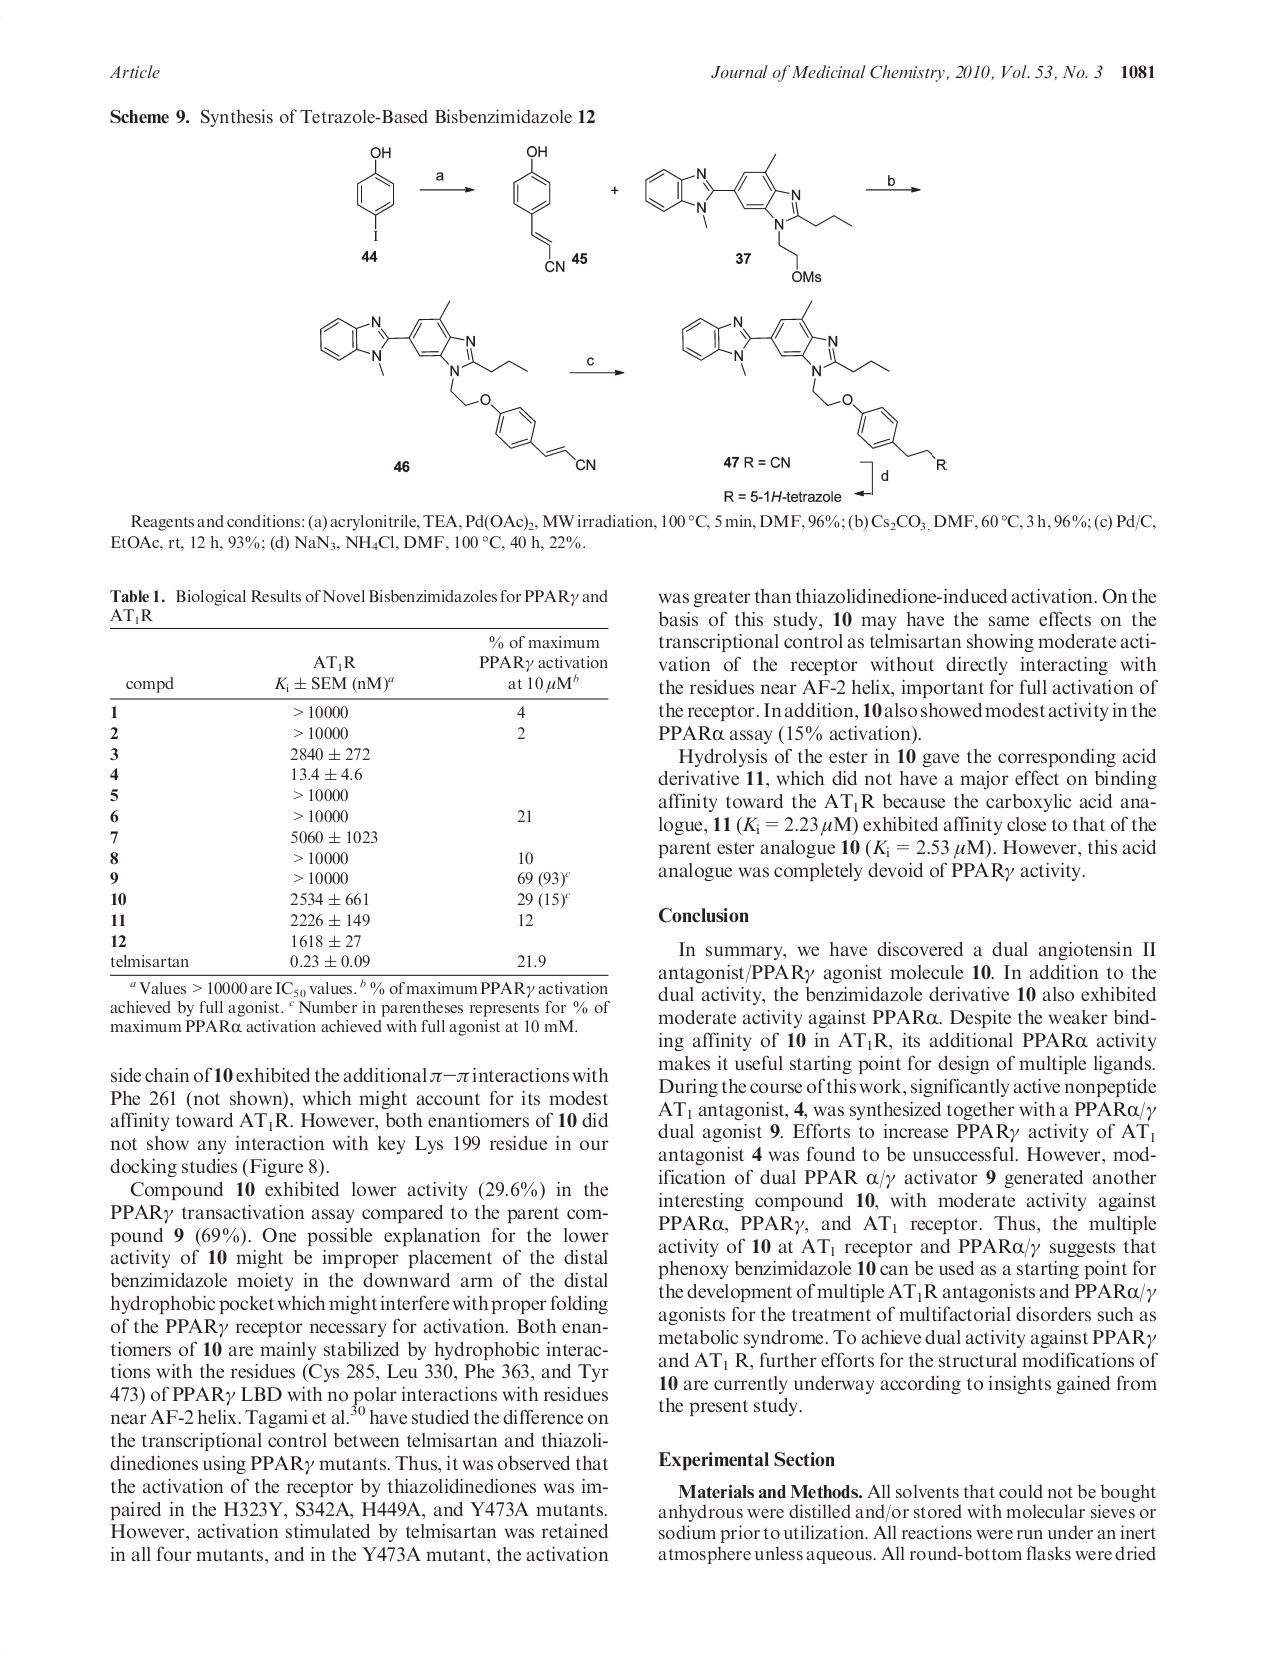exist_molecular: (316, 298, 598, 473), (678, 297, 949, 472), (644, 153, 855, 286), (511, 144, 567, 275), (356, 145, 398, 241)
